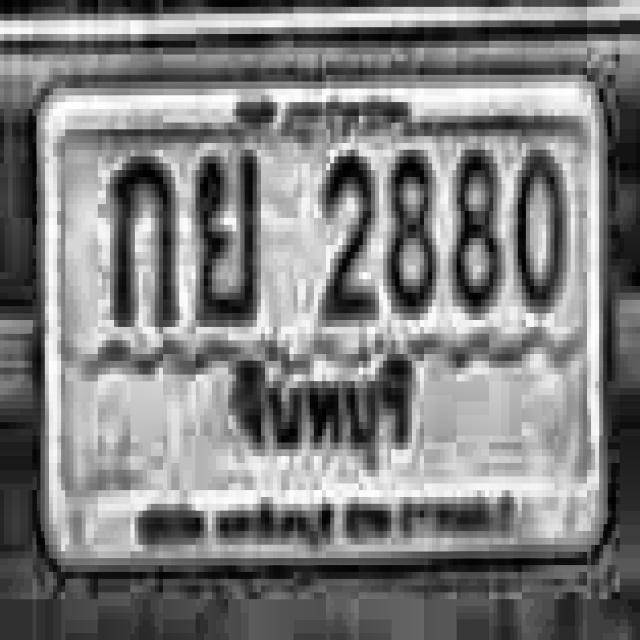license-plate: (31, 68, 618, 574)
